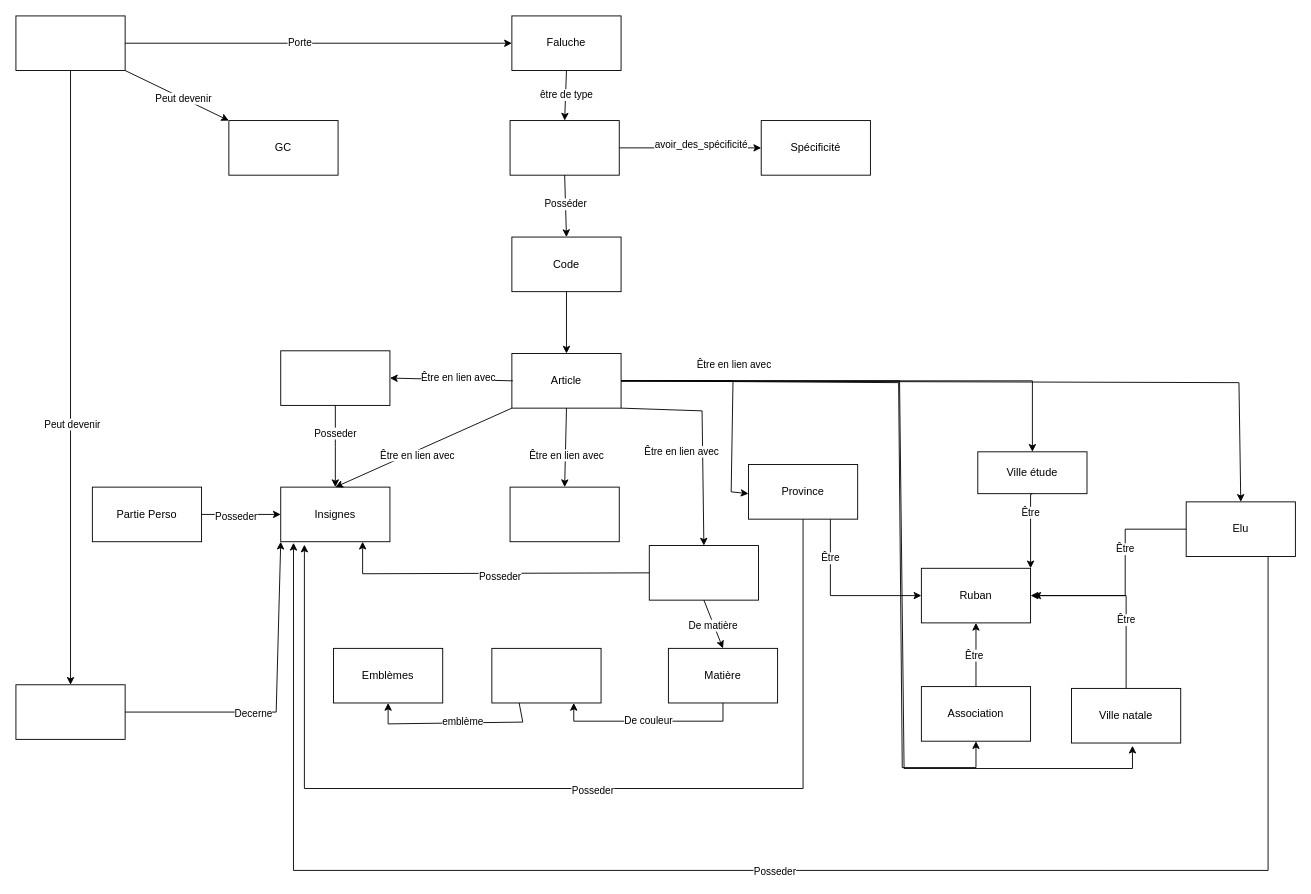
The diagram is 1311 pixels wide and 894 high, and some of its shapes have lost their labels. The shapes that lost their labels are listed below. From the top down, each one's box as (x1, y1, x2, y2) in pixels, then its label:
(15, 15, 125, 71): Faluchard
(509, 120, 619, 175): TypeFaluche
(280, 350, 390, 405): Potager
(509, 486, 619, 542): Concept
(648, 545, 758, 600): Circulaire
(491, 647, 601, 703): Couleur
(15, 684, 125, 739): GM
